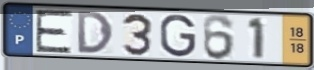1: (246, 16, 269, 61)
3: (119, 11, 154, 58)
6: (201, 12, 237, 62)
D: (76, 10, 116, 55)
E: (33, 9, 75, 55)
G: (158, 13, 198, 59)
